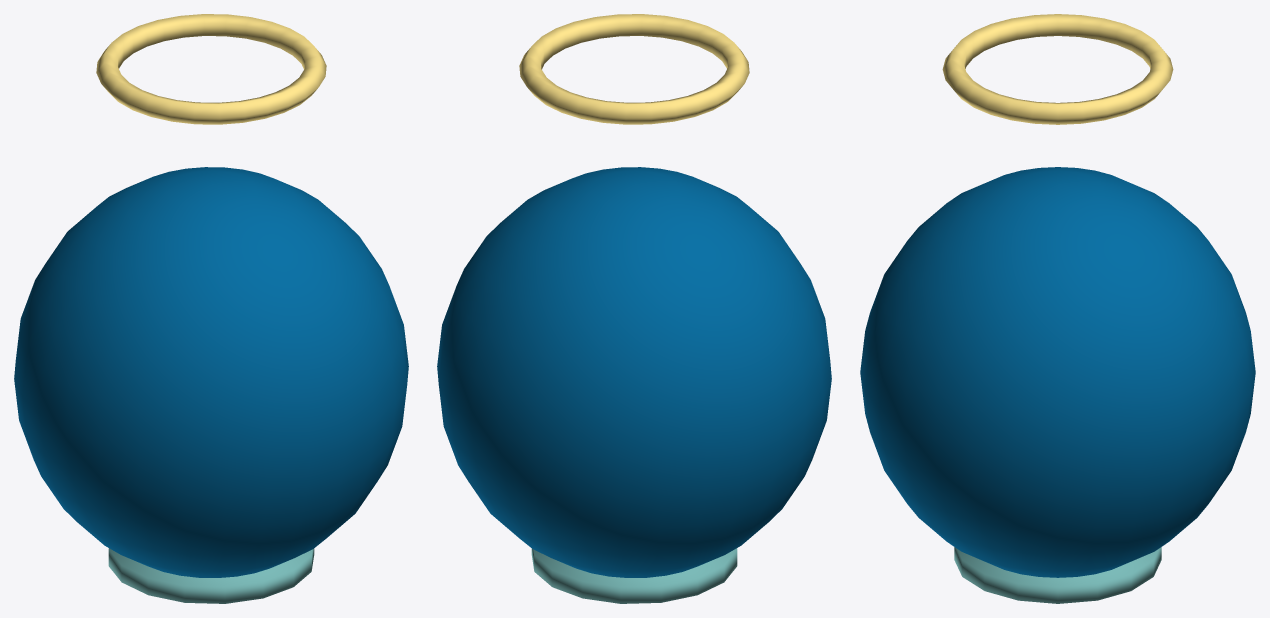
Rendered from egg_deepsea_08.glb.
The picture shows the model from 3 angles, left to right: view 1: azimuth 30°, elevation 25°; view 2: azimuth 150°, elevation 25°; view 3: azimuth 270°, elevation 25°; orthographic projection.
Parts seen in each view (by area): view 1: ball; view 2: ball; view 3: ball.
Part boxes in pixels (x1,y1,x2,y2): ball: [14, 14, 408, 603]; ball: [437, 14, 831, 603]; ball: [860, 14, 1255, 603].
Bounding box in the file's own units: 0.84 × 1.17 × 0.84.
